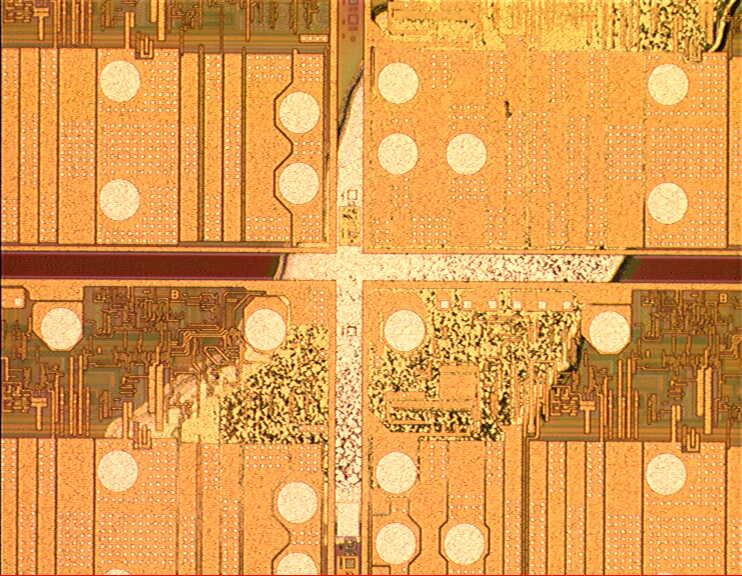BLOCK ETCH: (99, 1, 741, 492)
